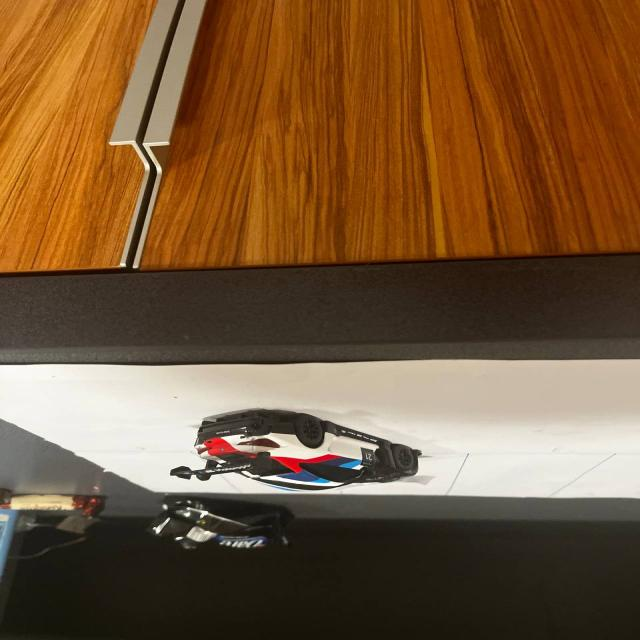cars: (137, 398, 452, 496)
